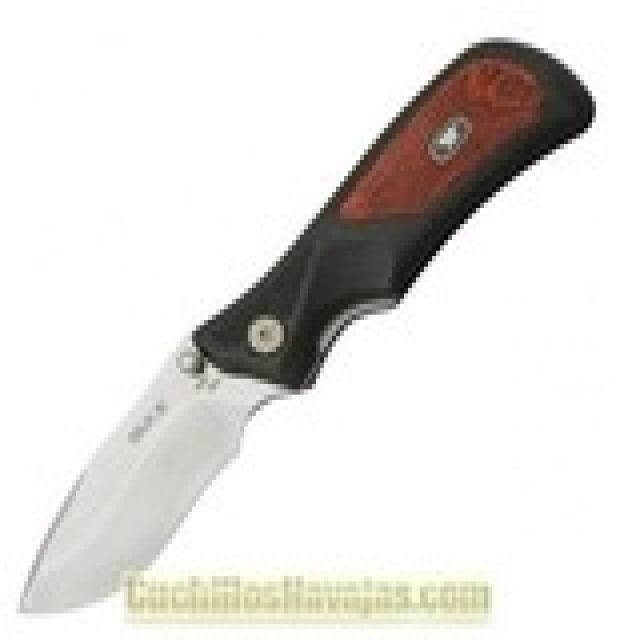Knife: (10, 37, 598, 617)
